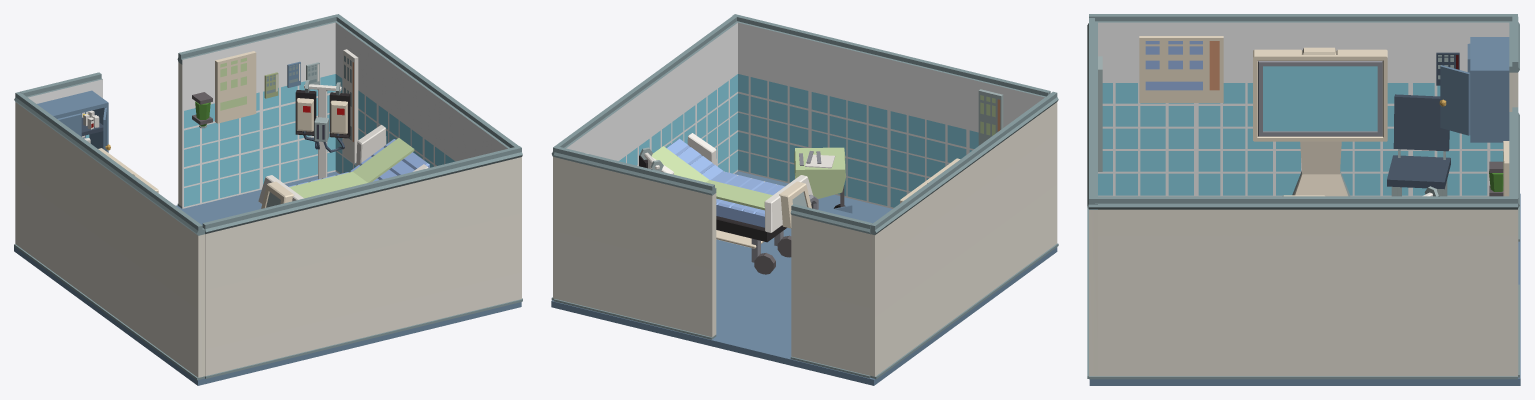
Rendered from g_o_RoomIntensiveCare.fbx.
3 renders of one model, left to right at view 1: azimuth 30°, elevation 25°; view 2: azimuth 150°, elevation 25°; view 3: azimuth 270°, elevation 25°, orthographic. The views are drawn at different scales.
Visible parts, largest first — view 1: surgery2; view 2: surgery2; view 3: surgery2.
Part boxes in pixels (box(x1,y1,x2,y2)): surgery2: box(14, 14, 522, 385); surgery2: box(551, 14, 1058, 385); surgery2: box(1087, 14, 1520, 385).
Bounding box in the file's own units: 411 × 192 × 404.
